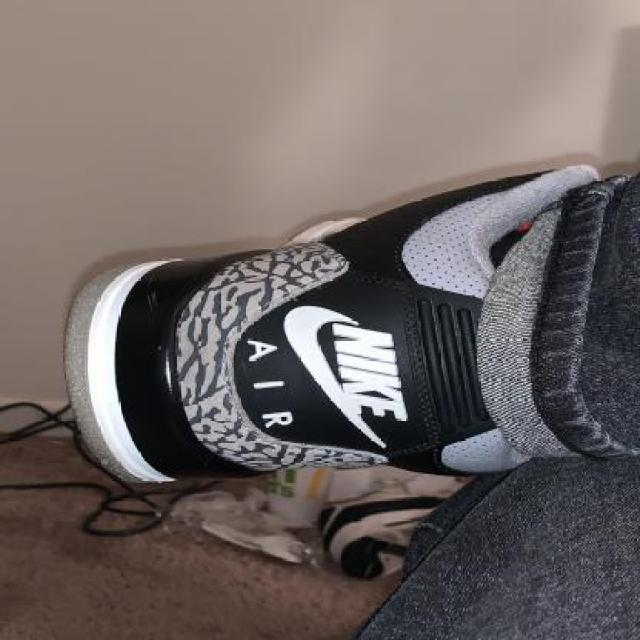shoe: (55, 166, 592, 485)
